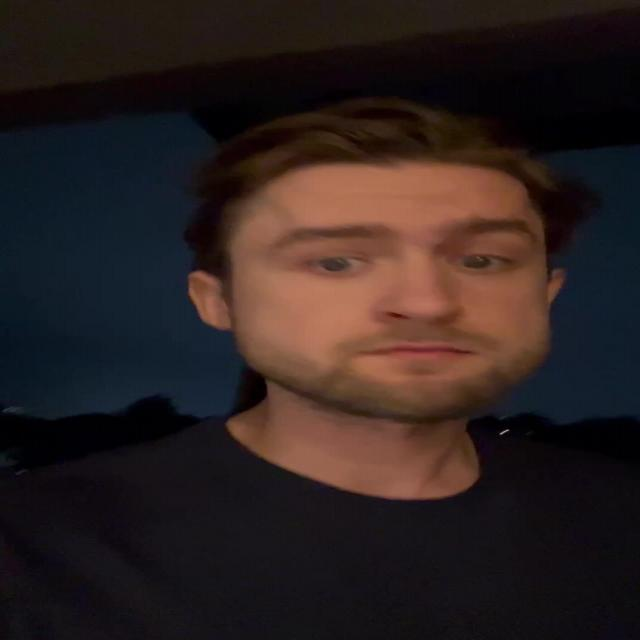earlobe: (187, 272, 233, 332)
